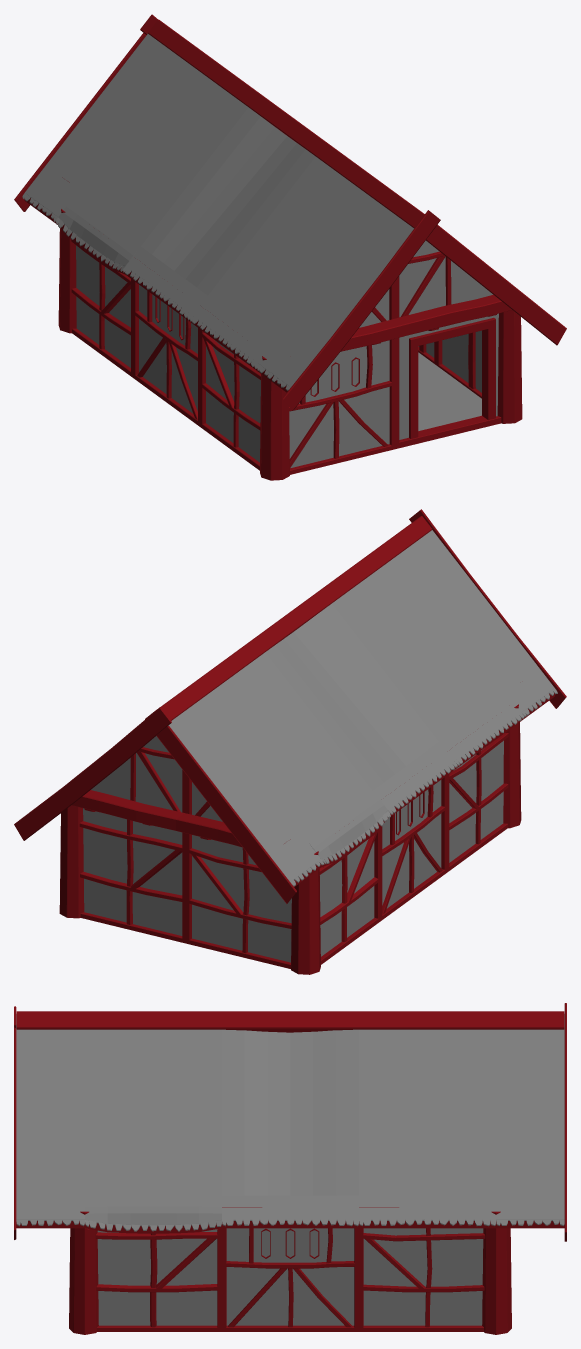
Rendered from SM_MH_01_House_06.fbx.
3 views of the same model, one above another, from view 1: azimuth 30°, elevation 25°; view 2: azimuth 150°, elevation 25°; view 3: azimuth 270°, elevation 25° (orthographic). The views are drawn at different scales.
Parts seen in each view (by area): view 1: SM_MH_01_House_06_LOD0, SM_MH_01_House_06_Windows; view 2: SM_MH_01_House_06_LOD0; view 3: SM_MH_01_House_06_LOD0, SM_MH_01_House_06_Windows.
Part boxes in pixels (box(x1,y1,x2,y2)): SM_MH_01_House_06_LOD0: box(14, 14, 566, 480); SM_MH_01_House_06_Windows: box(157, 298, 358, 395); SM_MH_01_House_06_LOD0: box(14, 509, 566, 974); SM_MH_01_House_06_LOD0: box(14, 1003, 566, 1334); SM_MH_01_House_06_Windows: box(262, 1230, 318, 1257).
Size of what is drawn, in the model's own units: 737 by 641 by 1210.
